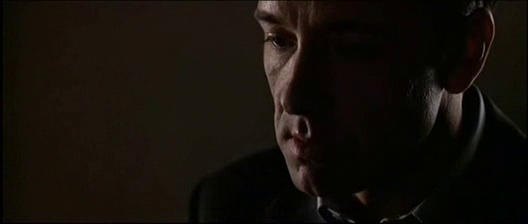cu: (1, 1, 528, 224)
face: (253, 1, 401, 196)
person: (183, 1, 528, 224)
